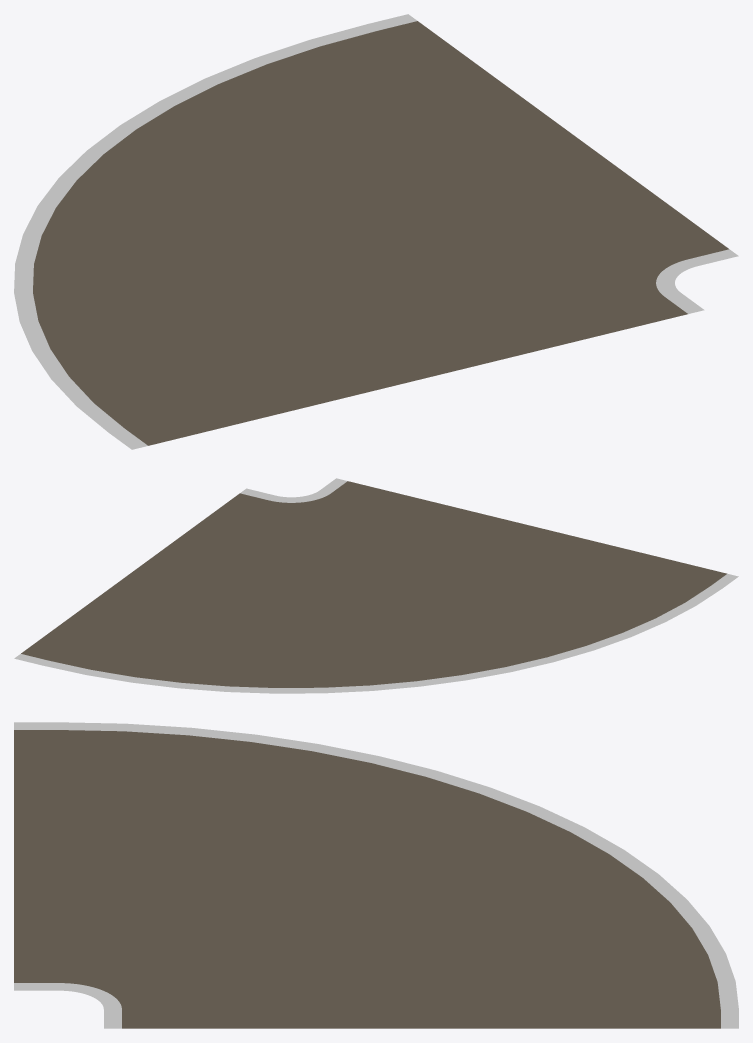
3 views of the same model, one above another, from view 1: azimuth 30°, elevation 25°; view 2: azimuth 150°, elevation 25°; view 3: azimuth 270°, elevation 25° (orthographic). The views are drawn at different scales.
Parts seen in each view (by area): view 1: s-90; view 2: s-90; view 3: s-90.
Boxes of the visible parts, x1,y1,x2,y2 form: s-90: (14,14,738,449); s-90: (14,478,738,693); s-90: (14,722,738,1028).
Bounding box in the file's own units: 2800 × 0 × 2800.
